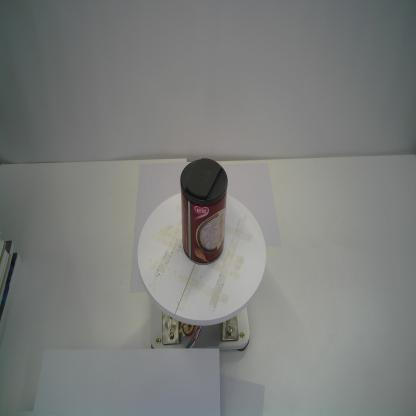Canned Food: (180, 157, 228, 266)
